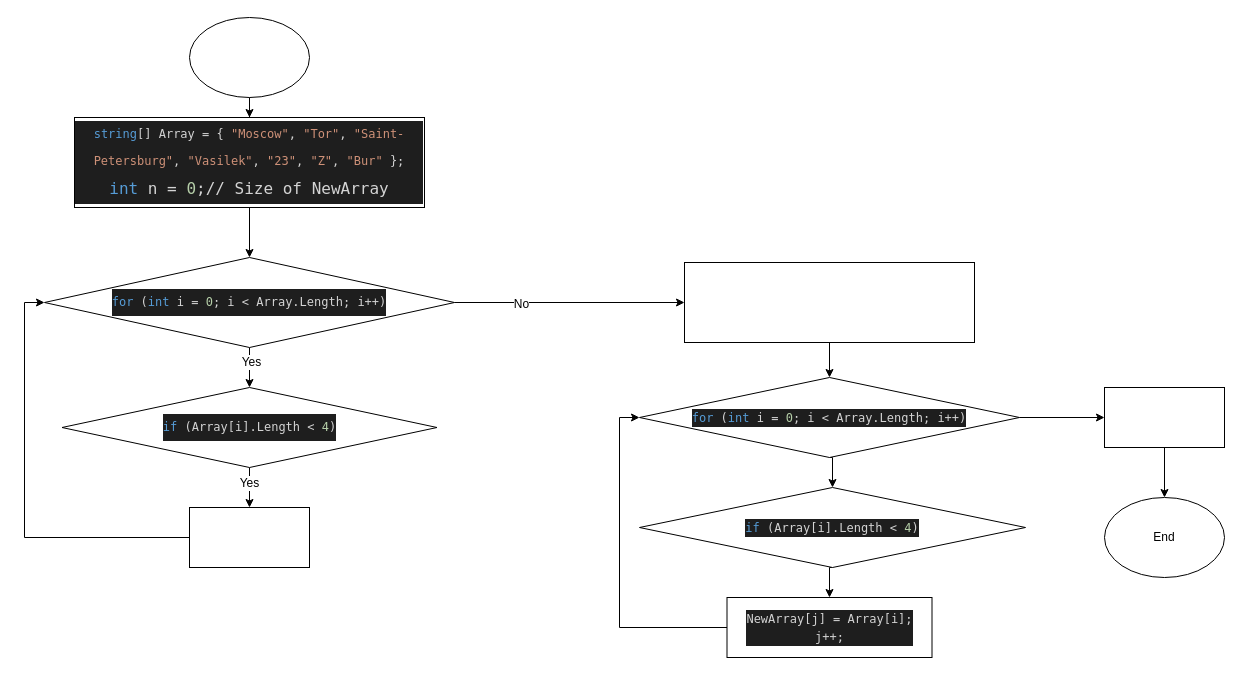
The diagram is 1242 pixels wide and 675 high, and some of its shapes have lost their labels. Each missing label, with the box of its shape:
n++: (188, 506, 310, 568)
Start: (188, 16, 310, 98)
string [] NewArray = new string [n] int j = 0: (684, 262, 974, 342)
Void PrintNewArray: (1104, 386, 1224, 448)
